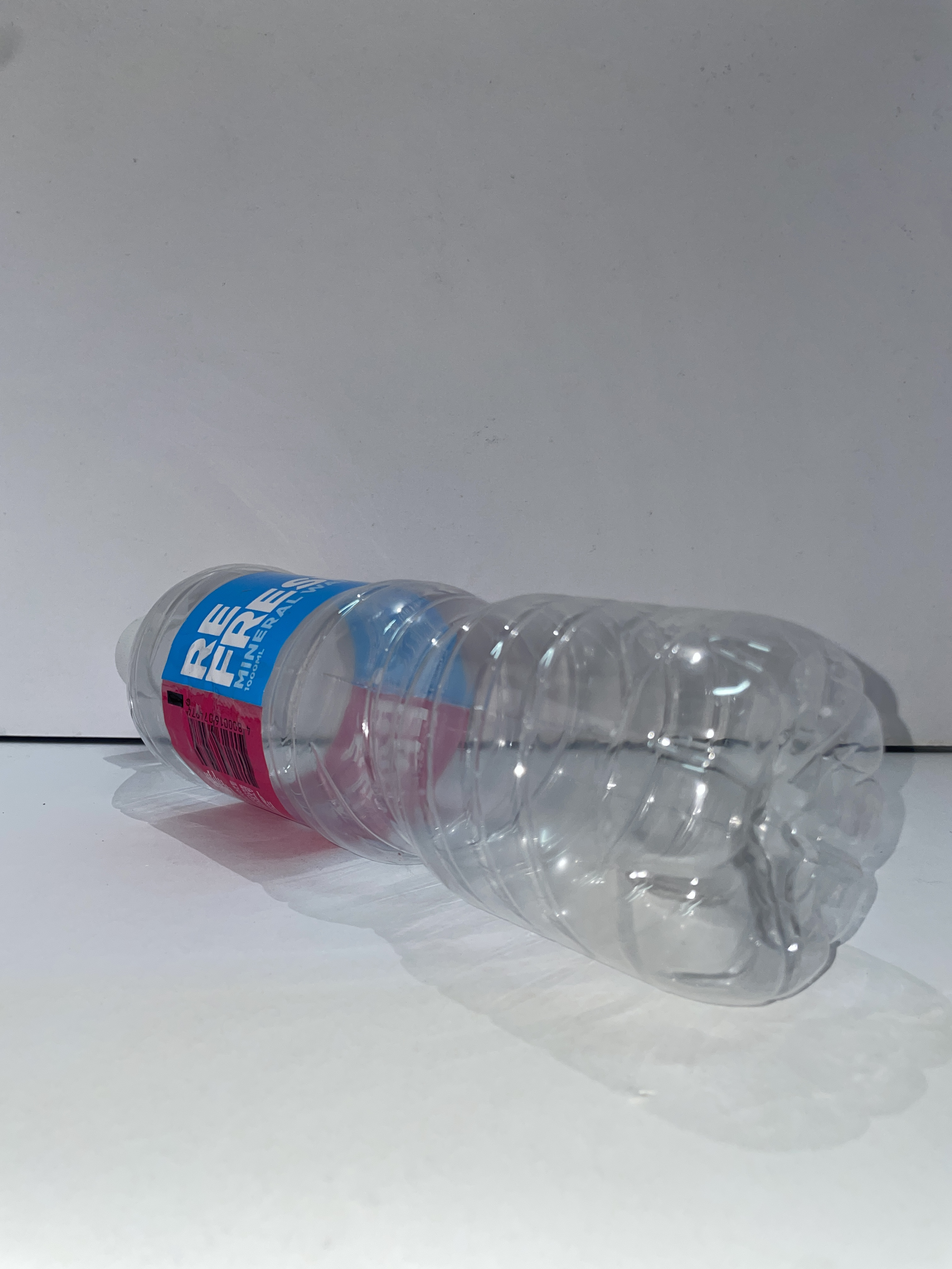Refresh 1000ml: (116, 566, 882, 1005)
